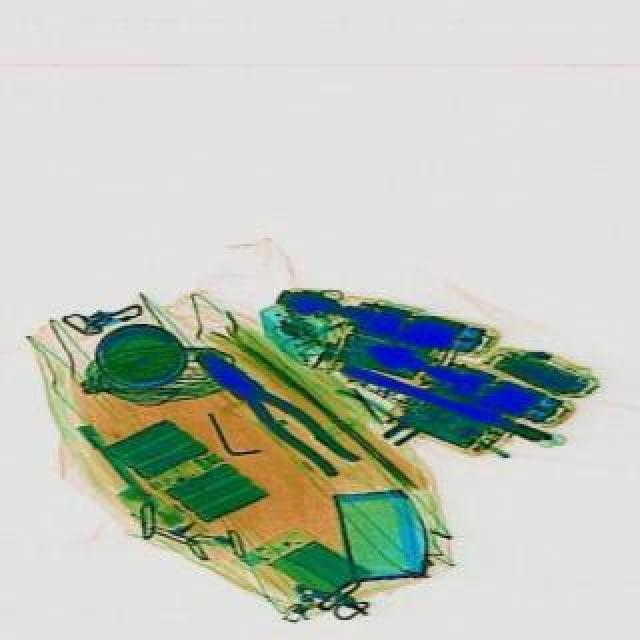wrench: (184, 336, 358, 484)
